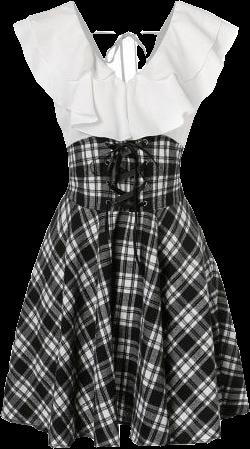Bodice: (13, 1, 238, 214)
Hemline: (0, 410, 249, 448)
Neckline: (71, 2, 178, 84)
Skirt: (1, 199, 249, 447)
Waistline: (14, 28, 239, 138), (14, 20, 224, 83), (61, 197, 188, 217), (66, 131, 182, 150)
